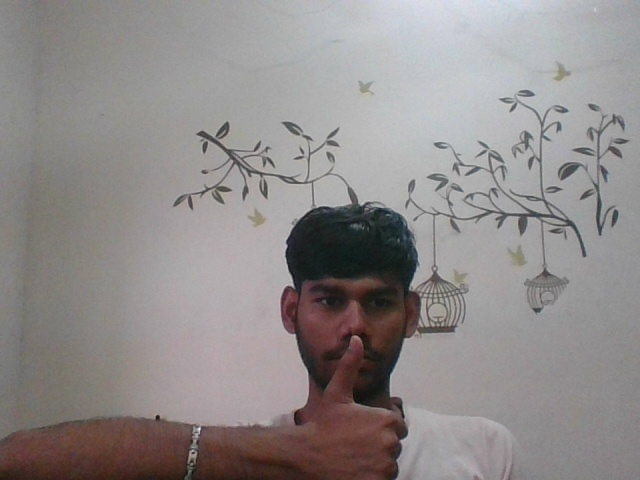Yes: (284, 331, 417, 476)
